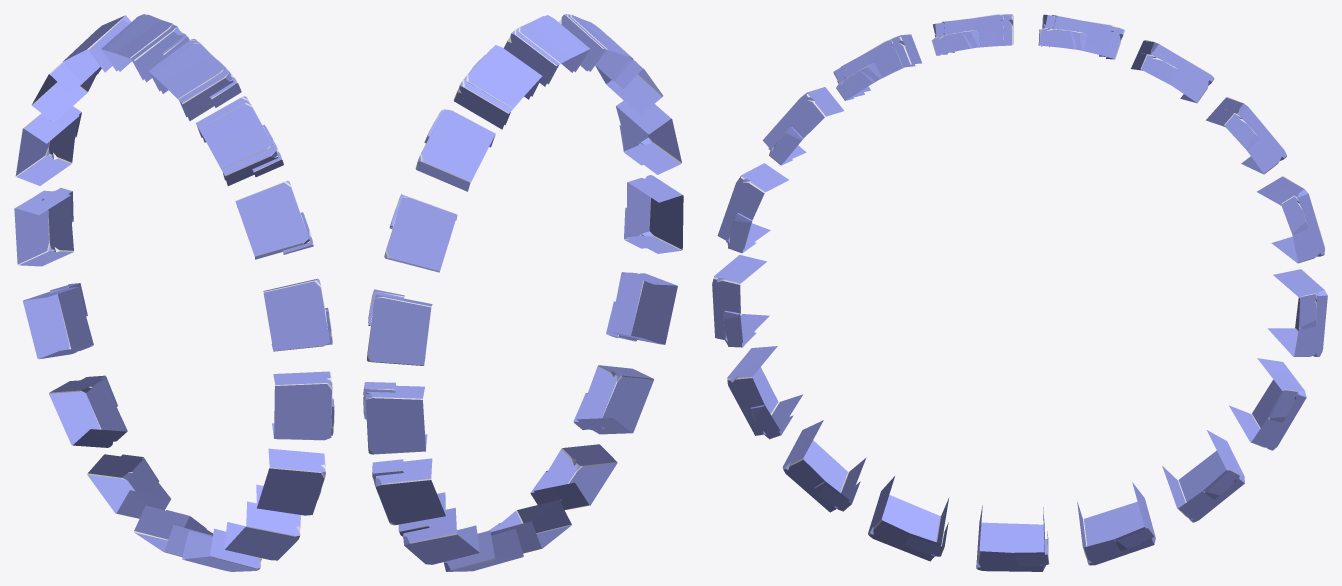
Rendered from barier_2.fbx.
3 renders of one model, left to right at view 1: azimuth 30°, elevation 25°; view 2: azimuth 150°, elevation 25°; view 3: azimuth 270°, elevation 25°, orthographic. The views are drawn at different scales.
Parts seen in each view (by area): view 1: barrier; view 2: barrier; view 3: barrier.
Boxes of the visible parts, x1,y1,x2,y2 form: barrier: (14,14,334,571); barrier: (363,14,683,571); barrier: (712,14,1327,571).
Bounding box in the file's own units: 208 × 1754 × 1756.
